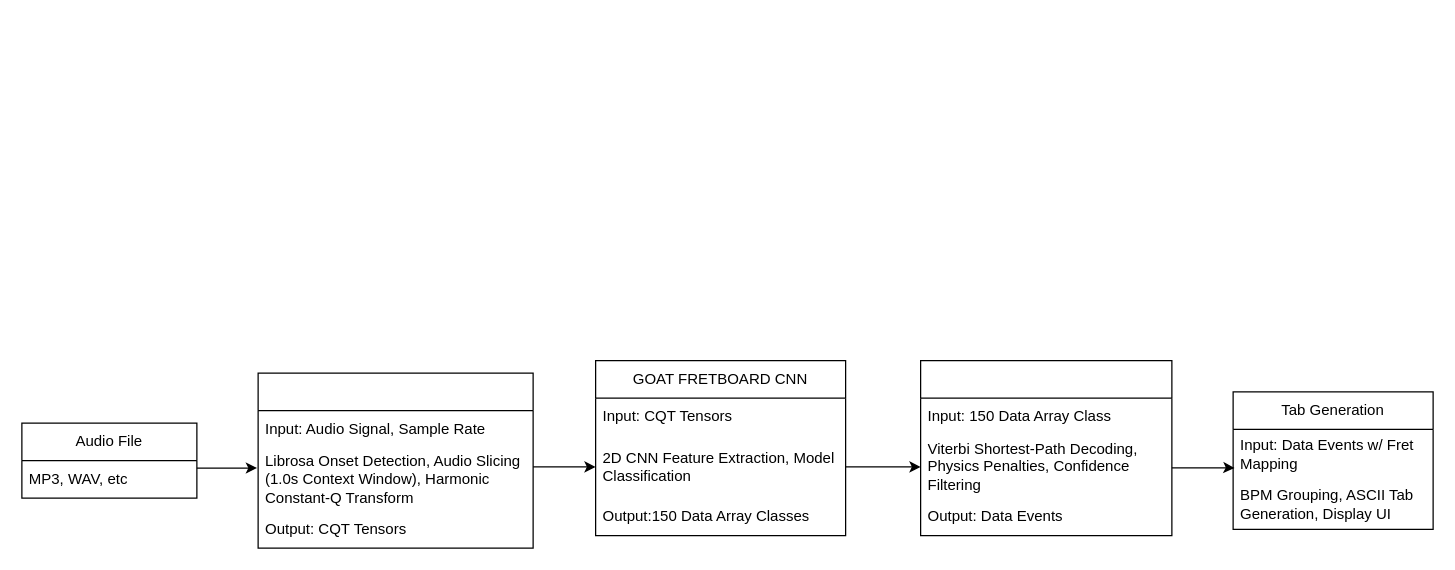
This 1455x570 diagram has some shape labels left out. The box of each missing label's shape, as (x1, y1, x2, y2) in pixels:
Post-Processing: (919, 359, 1172, 536)
Pre-Processing: (257, 372, 533, 548)
